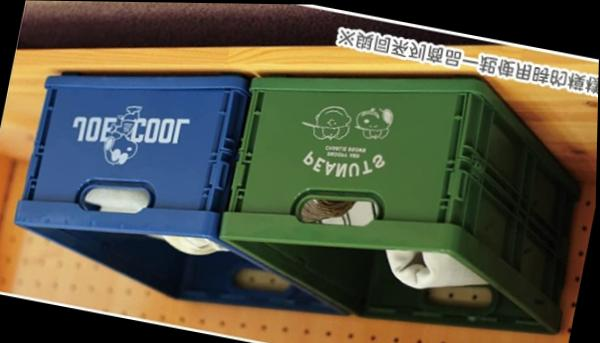plastic: (2, 0, 600, 343)
